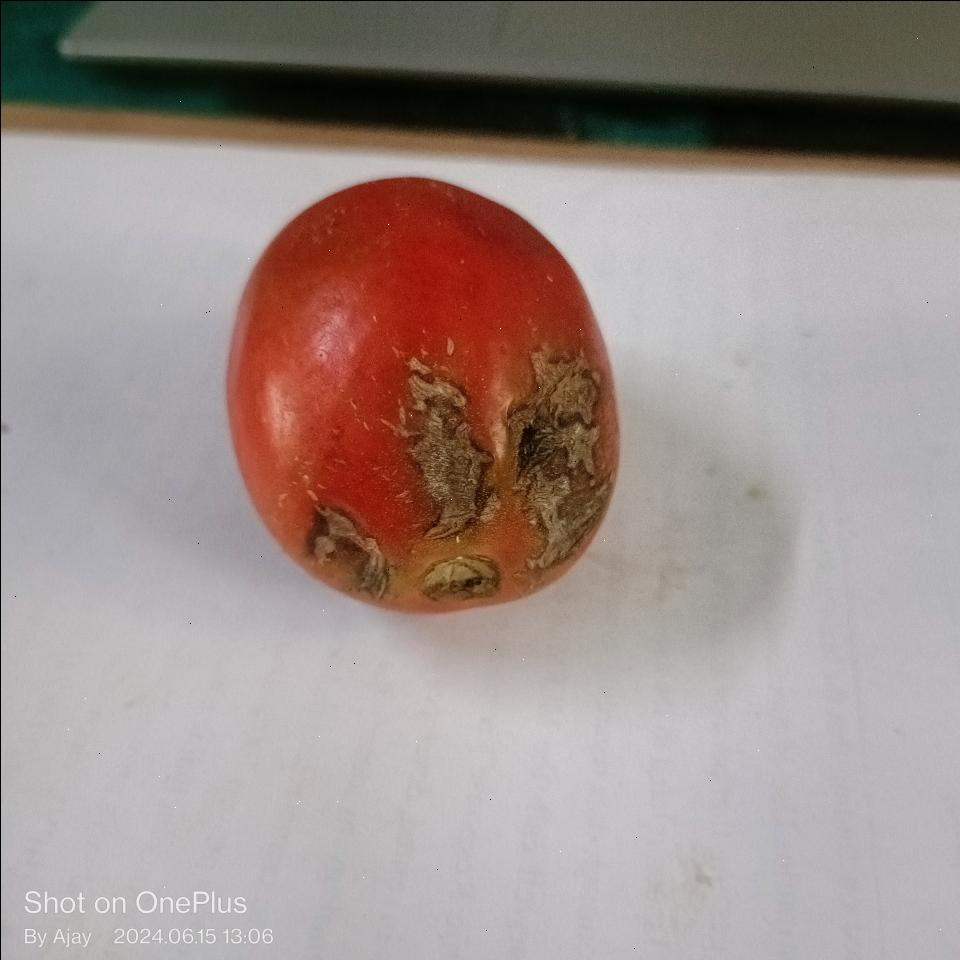Bacterial_Spot: (517, 336, 607, 558), (388, 354, 482, 540), (300, 493, 390, 604)
